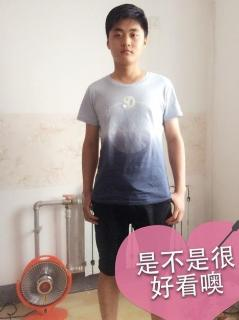short sleeve top: (77, 71, 184, 205)
shorts: (90, 183, 174, 276)
